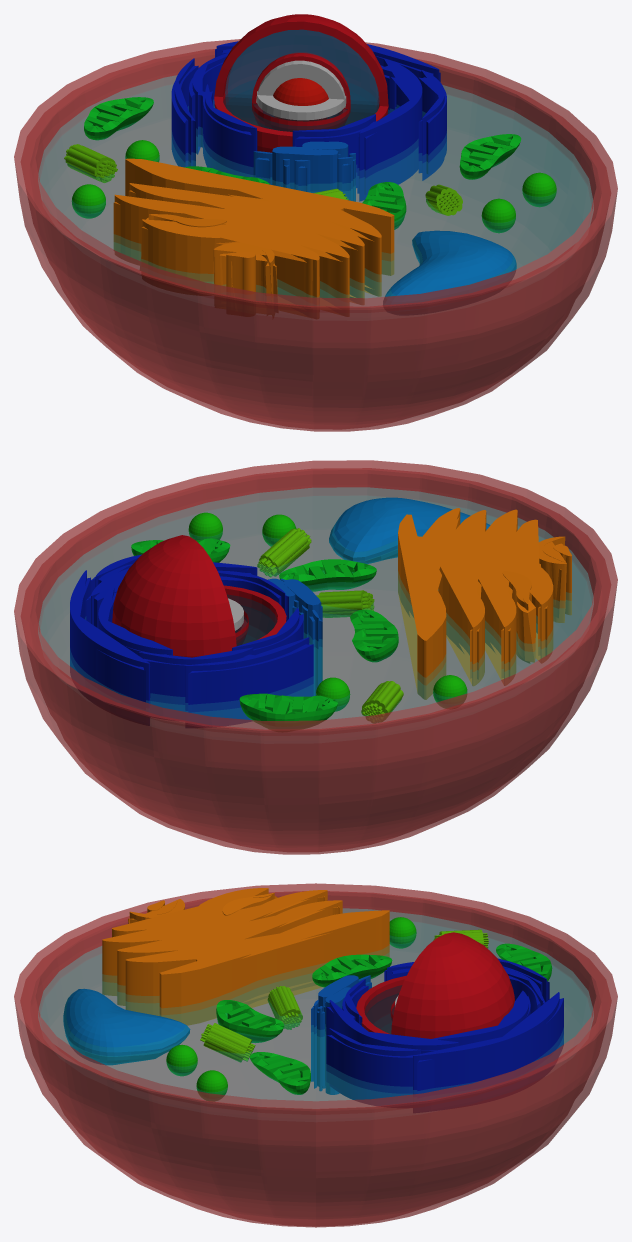
Rendered from cell.obj.
The picture shows the model from 3 angles, top to bottom: view 1: azimuth 30°, elevation 25°; view 2: azimuth 150°, elevation 25°; view 3: azimuth 270°, elevation 25°; orthographic projection. The views are drawn at different scales.
Visible parts, largest first — view 1: Sphere.002; view 2: Sphere.002; view 3: Sphere.002.
Part boxes in pixels (x1=…): Sphere.002: x1=14, y1=14, x2=617, y2=431; Sphere.002: x1=14, y1=460, x2=617, y2=854; Sphere.002: x1=14, y1=883, x2=617, y2=1227.
Bounding box in the file's own units: 6.44 × 3.87 × 7.28.
